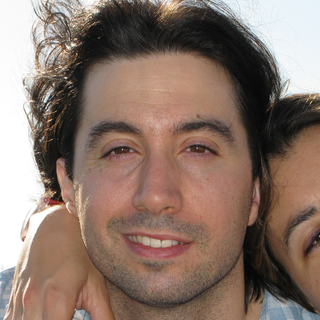eye: (94, 136, 148, 166), (172, 132, 224, 163)
